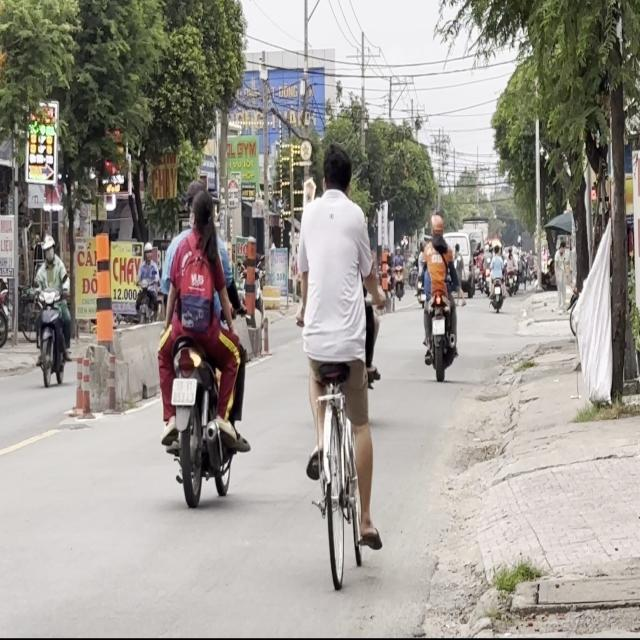licenseplate: (154, 166, 250, 506)
motorcyclist: (189, 187, 214, 231)
nohelmet: (172, 377, 196, 405)
